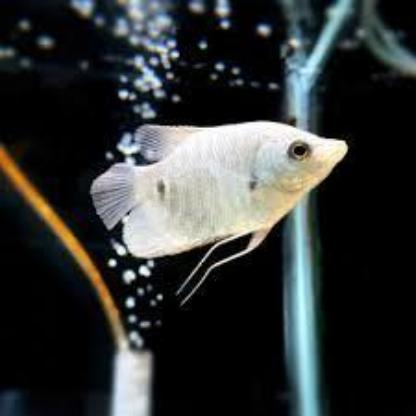gurame: (101, 120, 346, 280)
